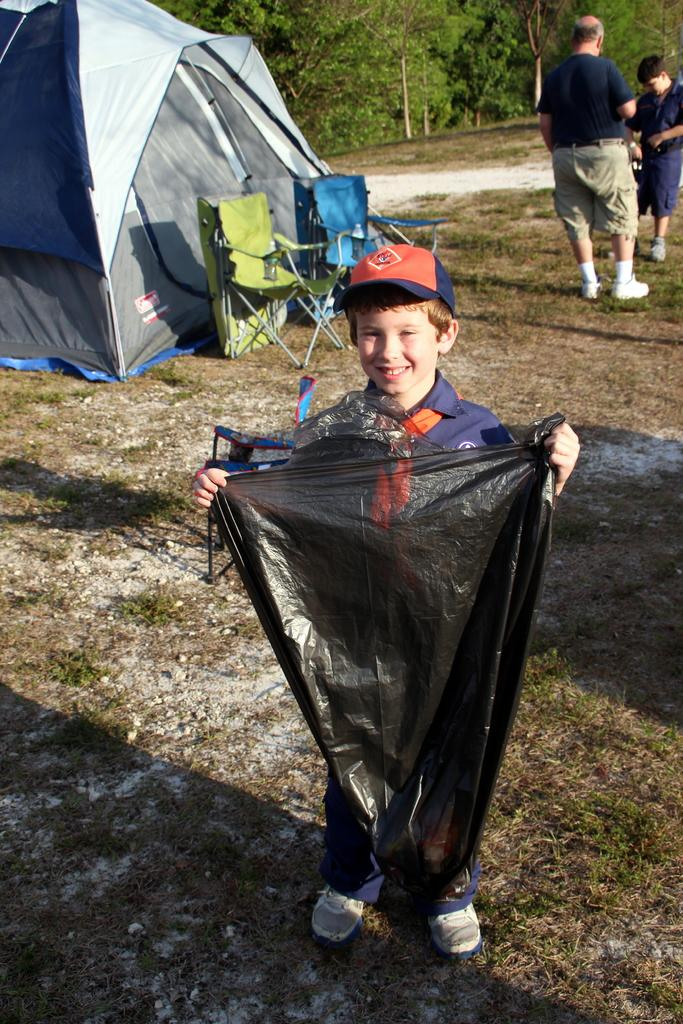Sem Máscara: (356, 296, 434, 394), (638, 77, 659, 94)
